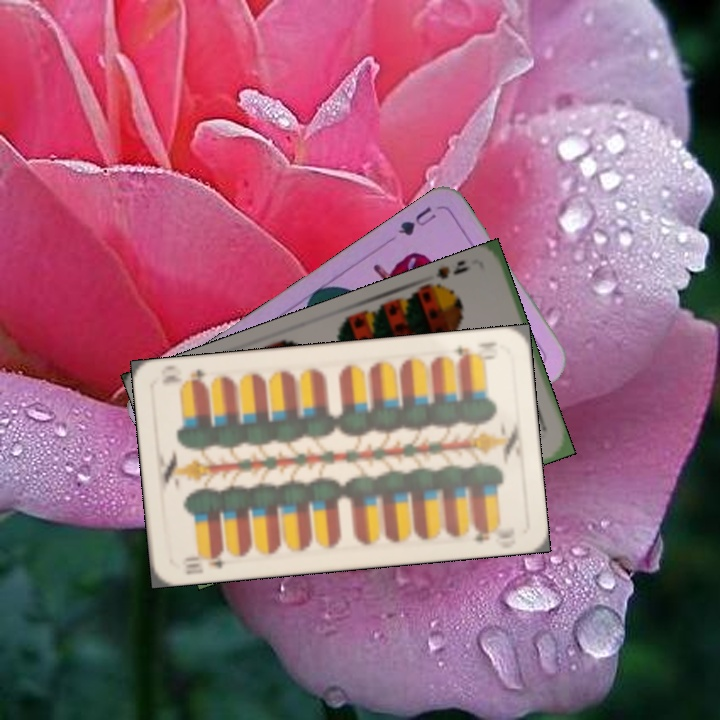E10: (181, 546, 229, 577), (450, 342, 486, 365)
GU: (394, 202, 439, 239)
S9: (423, 258, 474, 297)
